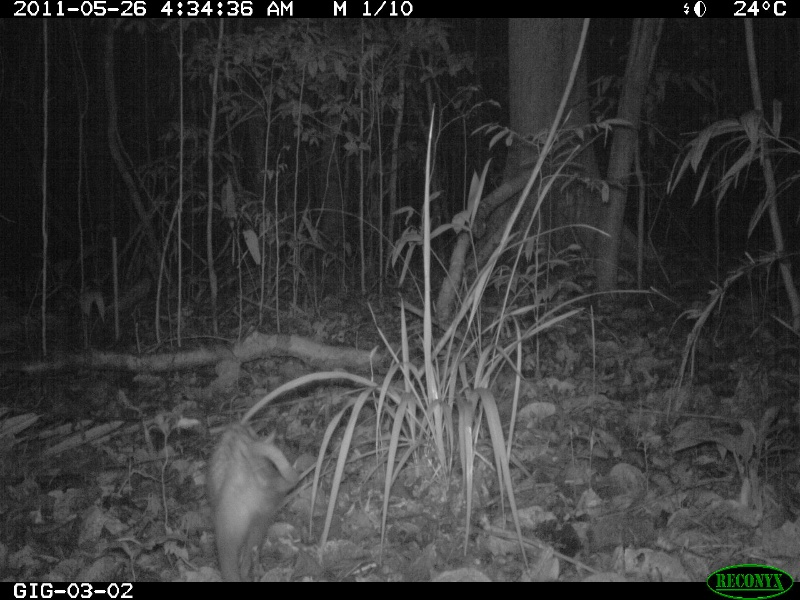opossum: (210, 420, 281, 574)
